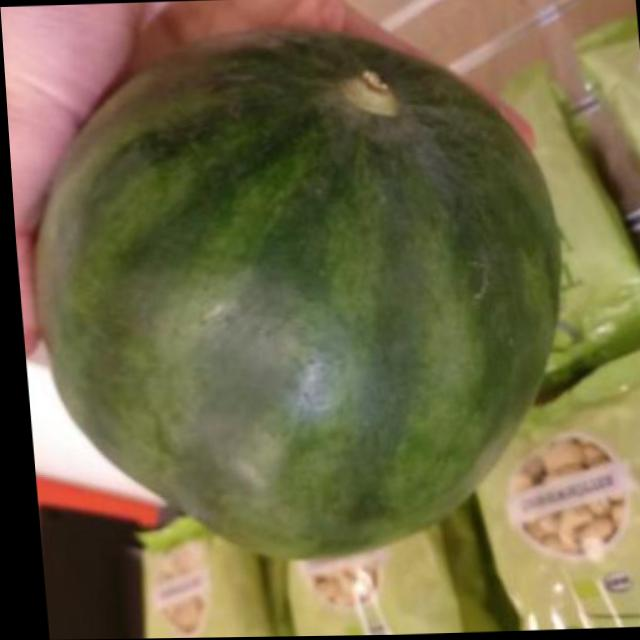Watermelon: (15, 17, 577, 567)
